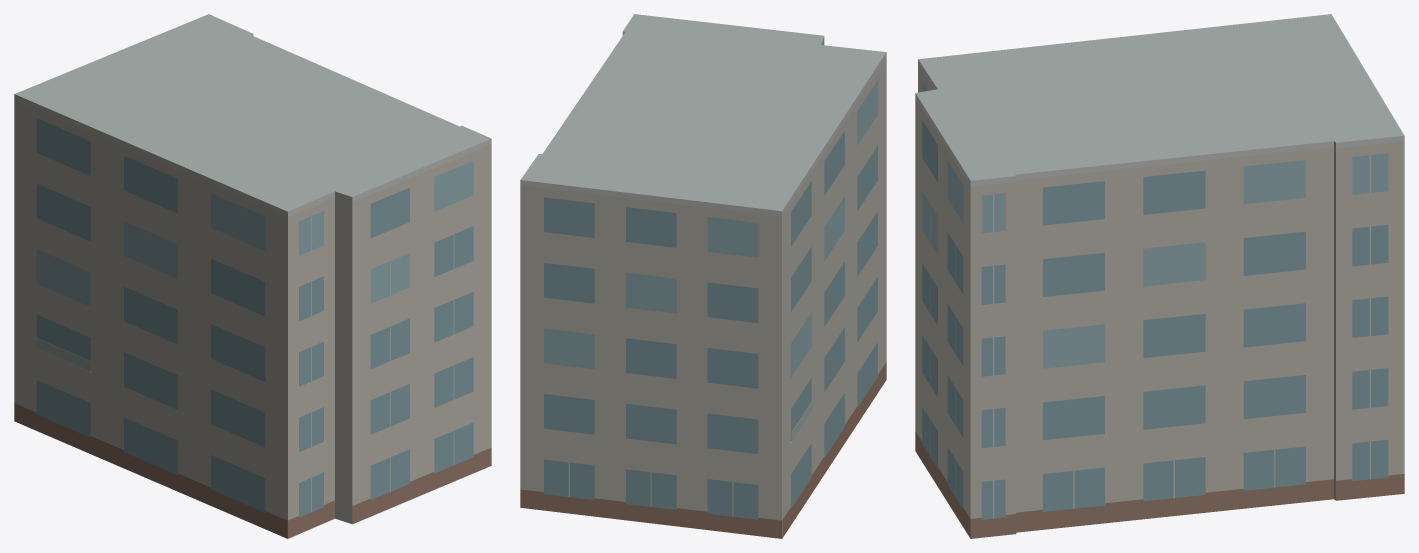
The model's file is survey-upis-32914176.glb.
The picture shows the model from 3 angles, left to right: view 1: azimuth 30°, elevation 25°; view 2: azimuth 150°, elevation 25°; view 3: azimuth 270°, elevation 25°; orthographic projection. The views are drawn at different scales.
Parts seen in each view (by area): view 1: survey-upis-32914176.tmp; view 2: survey-upis-32914176.tmp; view 3: survey-upis-32914176.tmp.
Boxes of the visible parts, x1,y1,x2,y2 form: survey-upis-32914176.tmp: (14,14,491,538); survey-upis-32914176.tmp: (520,14,886,538); survey-upis-32914176.tmp: (915,14,1404,538).
Size of the model in its own units: 14.9 by 14.9 by 18.46.
